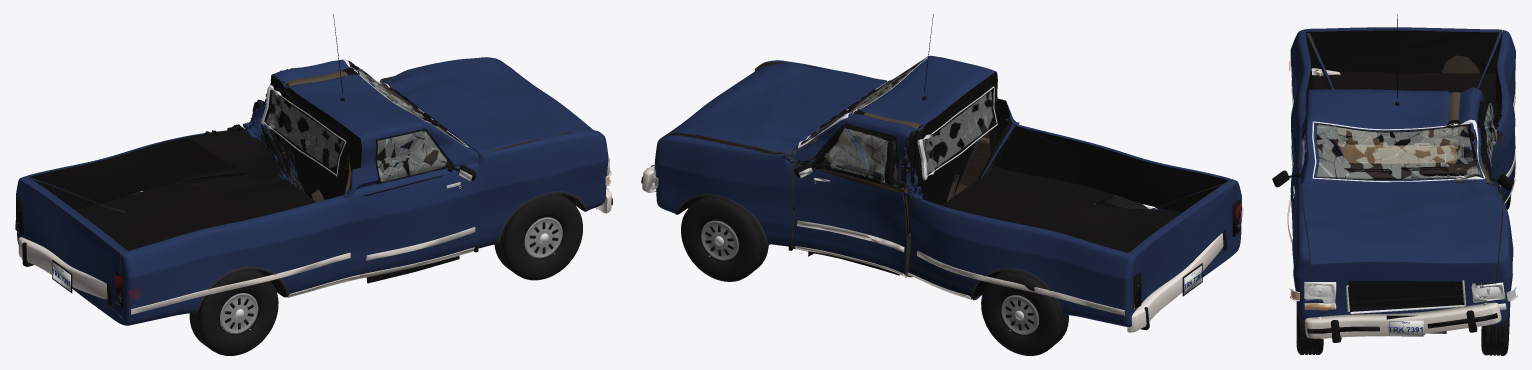
Rendered from pickup87_side_d1_lod1.glb.
3 views of the same model, side by side, from view 1: azimuth 30°, elevation 25°; view 2: azimuth 150°, elevation 25°; view 3: azimuth 270°, elevation 25° (orthographic). The views are drawn at different scales.
Visible parts, largest first — view 1: Body, Hood, Wheel_FR_mesh, Tailgate, Wheel_RR_mesh, Door_FR, Glass, Trim, Trim_FR, Interior, Glass_FR, Bumper_R (+1 smaller); view 2: Body, Hood, Door_FL, Wheel_FL_mesh, Tailgate, Wheel_RL_mesh, Glass, Glass_FL, Trim, Trim_FL, Bumper_R, Interior (+2 smaller); view 3: Body, Hood, Glass, Ends, Interior, Bumper_F, Tailgate, Wheel_FL_mesh, Door_FL, Trim, Glass_FL, Wheel_FR_mesh (+4 smaller).
Part boxes in pixels (left/top/right/bottom): Body: left=16, top=58, right=608, bottom=325; Hood: left=381, top=57, right=593, bottom=158; Wheel_FR_mesh: left=494, top=193, right=582, bottom=280; Tailgate: left=20, top=178, right=125, bottom=315; Wheel_RR_mesh: left=189, top=269, right=278, bottom=355; Door_FR: left=357, top=128, right=477, bottom=274; Glass: left=261, top=59, right=468, bottom=176; Trim: left=131, top=14, right=587, bottom=314; Trim_FR: left=358, top=128, right=475, bottom=283; Interior: left=317, top=85, right=448, bottom=196; Glass_FR: left=376, top=131, right=451, bottom=184; Bumper_R: left=18, top=237, right=111, bottom=305; Body: left=655, top=55, right=1241, bottom=326; Hood: left=660, top=63, right=886, bottom=157; Door_FL: left=792, top=123, right=911, bottom=275; Wheel_FL_mesh: left=681, top=196, right=768, bottom=281; Tailgate: left=1131, top=181, right=1236, bottom=312; Wheel_RL_mesh: left=981, top=270, right=1068, bottom=355; Glass: left=798, top=57, right=997, bottom=180; Glass_FL: left=816, top=126, right=894, bottom=185; Trim: left=674, top=14, right=1156, bottom=315; Trim_FL: left=794, top=125, right=905, bottom=277; Bumper_R: left=1127, top=230, right=1226, bottom=332; Interior: left=810, top=90, right=894, bottom=171; Body: left=1290, top=29, right=1515, bottom=325; Hood: left=1300, top=180, right=1502, bottom=301; Glass: left=1312, top=119, right=1485, bottom=182; Ends: left=1290, top=279, right=1517, bottom=336; Interior: left=1317, top=127, right=1479, bottom=177; Bumper_F: left=1304, top=302, right=1501, bottom=342; Tailgate: left=1305, top=27, right=1502, bottom=73; Wheel_FL_mesh: left=1481, top=301, right=1510, bottom=355; Door_FL: left=1478, top=98, right=1501, bottom=190; Trim: left=1291, top=14, right=1515, bottom=203; Glass_FL: left=1481, top=100, right=1497, bottom=177; Wheel_FR_mesh: left=1296, top=302, right=1323, bottom=354.
Size of the model in its own units: 5.02 by 2.5 by 2.13.
34 materials, 5 textured.
